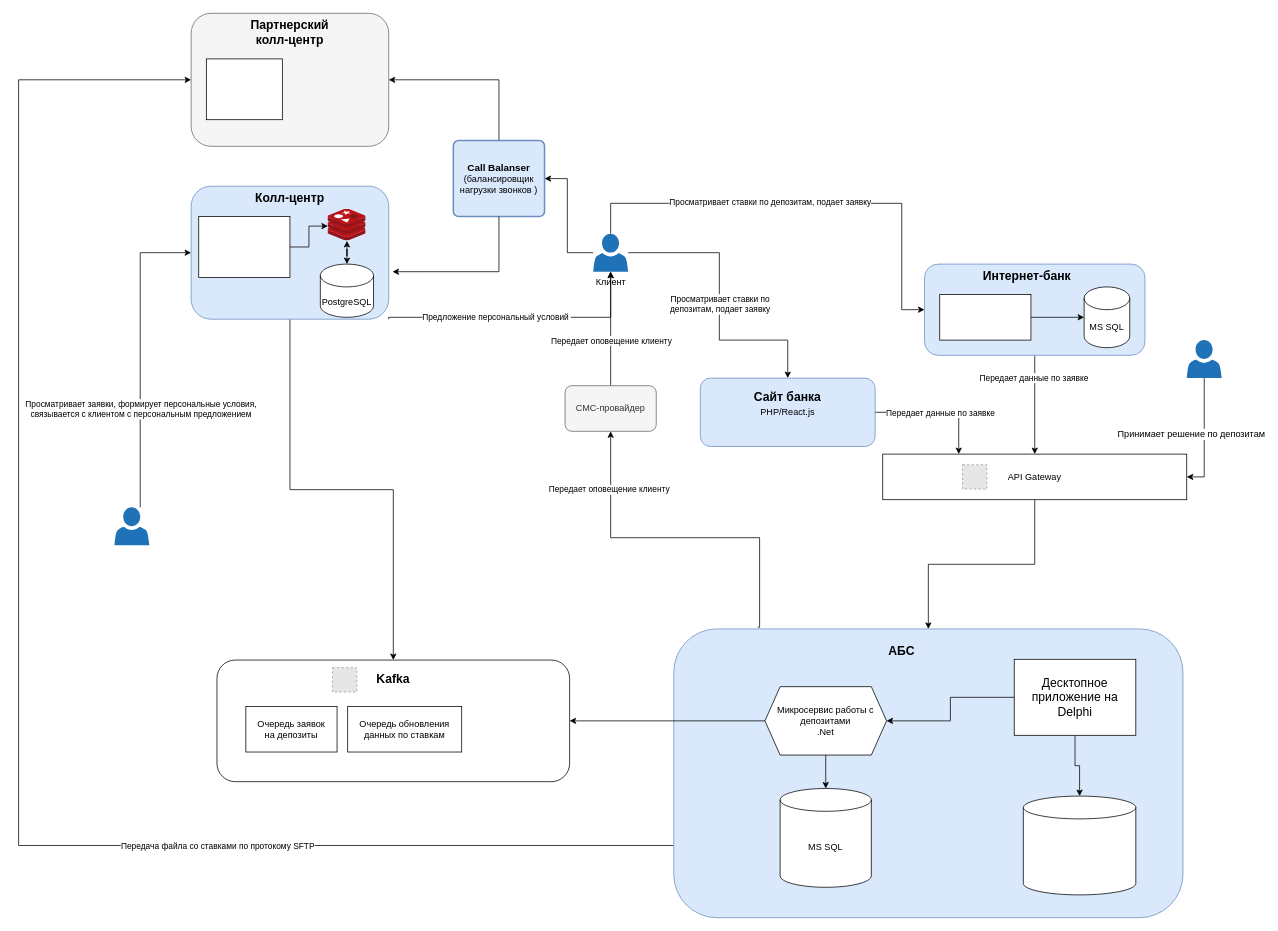
The diagram is 1278 pixels wide and 931 high, and some of its shapes have lost their labels. Grey dashed boxes stand in for pictures. The box of each missing label's shape, as (x1, y1, x2, y2) in pixels:
ASP.Net MVC: (939, 294, 1031, 340)
React.js/Java Spring Boot: (198, 216, 290, 277)
SFTP server: (206, 58, 282, 120)
Менеджер бэк-офиса: (1186, 340, 1221, 378)
Менеджер колл-центра: (114, 507, 149, 545)
СУБД Oracle: (1023, 795, 1136, 895)
